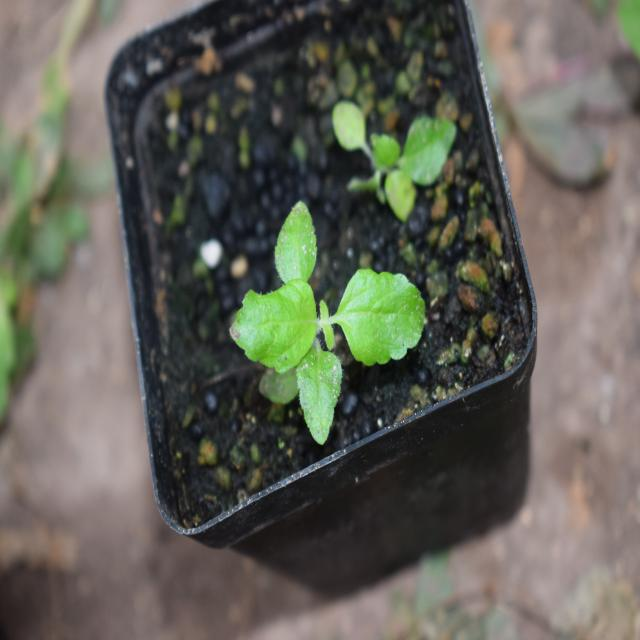billygoat_weed: (217, 203, 413, 441)
